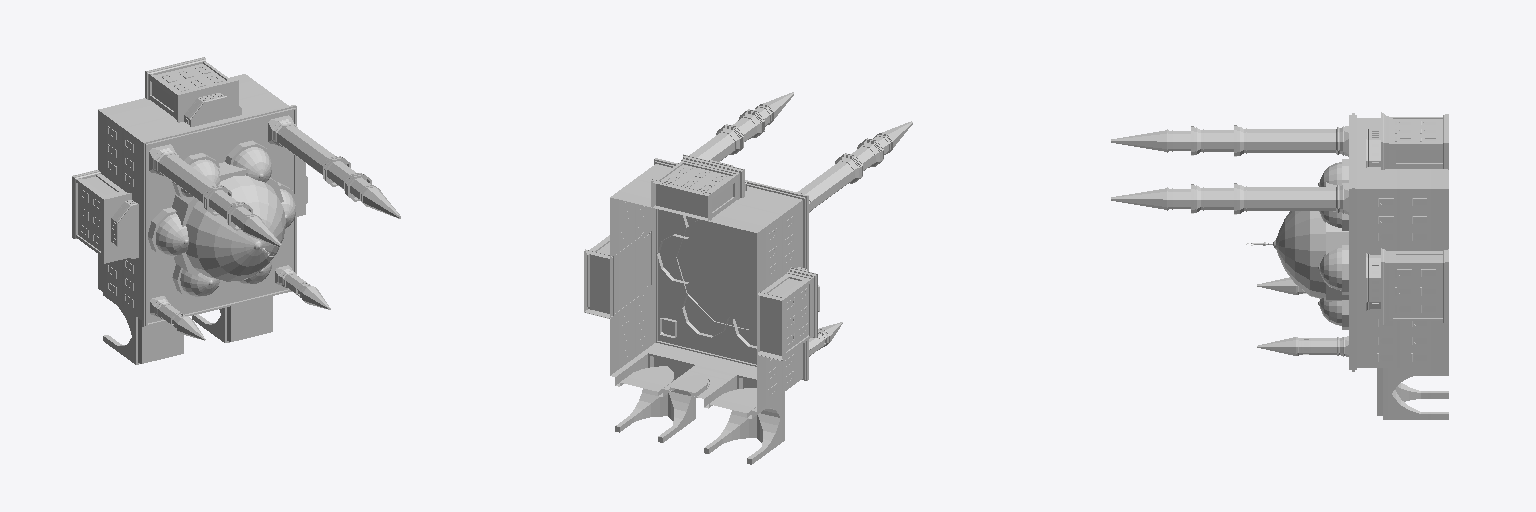
The model's file is mosque1.obj.
The picture shows the model from 3 angles: view 1: azimuth 30°, elevation 25°; view 2: azimuth 150°, elevation 25°; view 3: azimuth 270°, elevation 25°; orthographic projection.
Visible parts, largest first — view 1: Mosque_001; view 2: Mosque_001; view 3: Mosque_001.
Boxes of the visible parts, <box> form: Mosque_001: <box>72,57,400,364</box>; Mosque_001: <box>584,92,912,464</box>; Mosque_001: <box>1111,112,1448,419</box>.
Bounding box in the file's own units: 20.01 × 24.68 × 28.98.